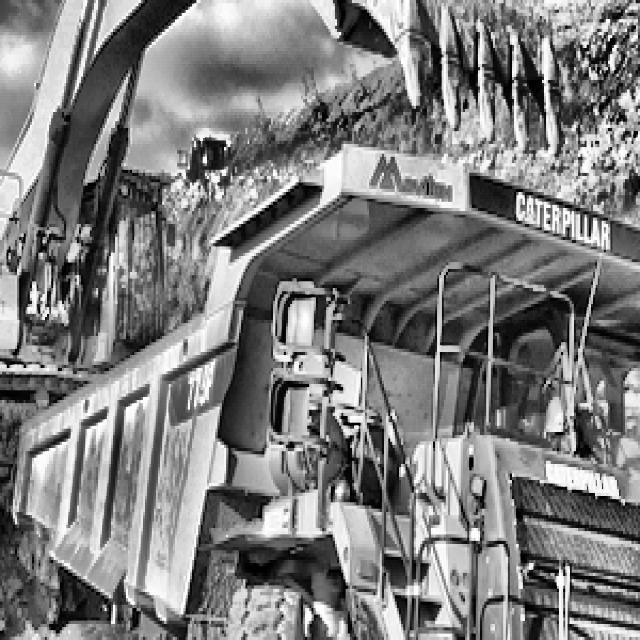dump_truck: (0, 137, 640, 640)
excavator: (0, 0, 640, 525)
